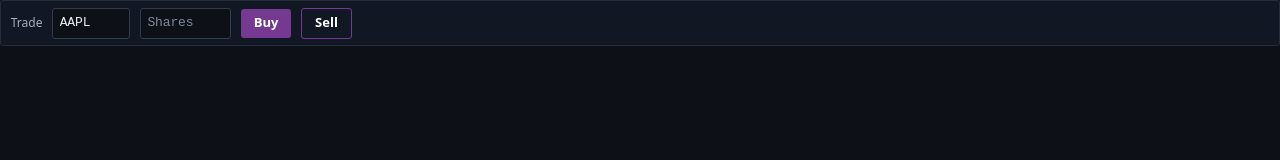
it: TradeBar › pre-fills the ticker from the selection and submits a buy with no confirmation
expect the field with test id "trade-ticker" holds "AAPL": met, box [52,8,130,39]
Step 1. Type "5" into the field with test id "trade-quantity" → (185, 23), box [140,8,231,39]
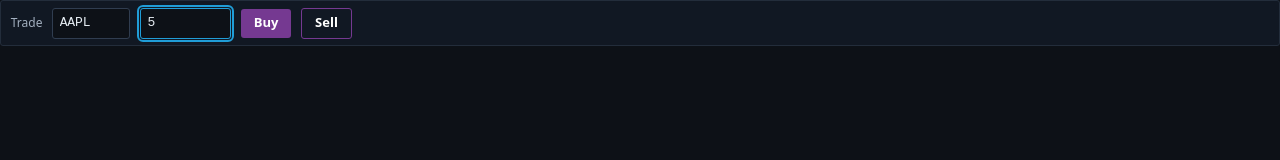
Step 2. Click the button with test id "trade-buy" → (266, 23), box [241,8,291,38]
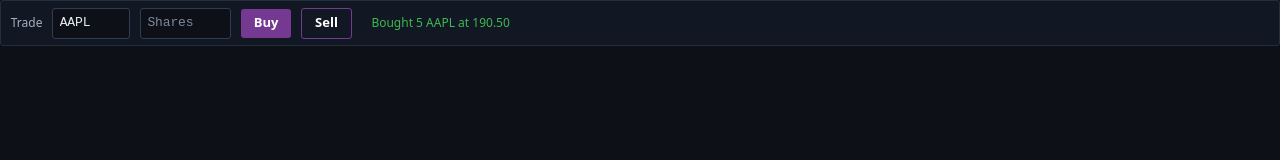
expect the message with test id "trade-success" reads "Bought 5 AAPL at 190.50": met, box [371,14,510,31]
expect the field with test id "trade-quantity" is empty: met, box [140,8,231,39]
